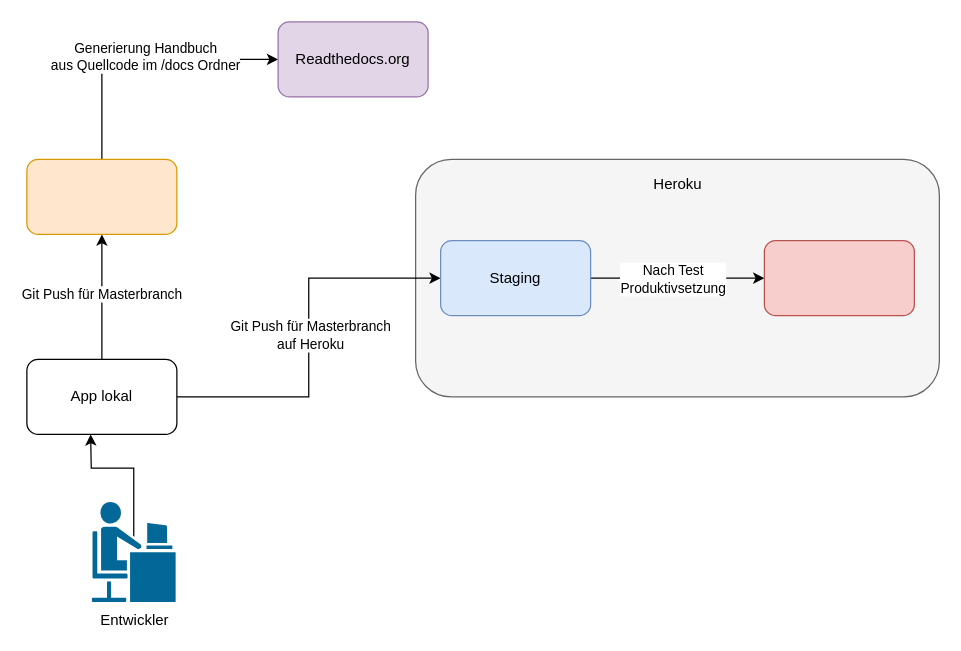
The diagram is 961 pixels wide and 651 high, and some of its shapes have lost their labels. The shapes that lost their labels are listed below. From the top down, each one's centre as x and y in pixels, then its label:
[101,196]: Github
[838,277]: Produktion
